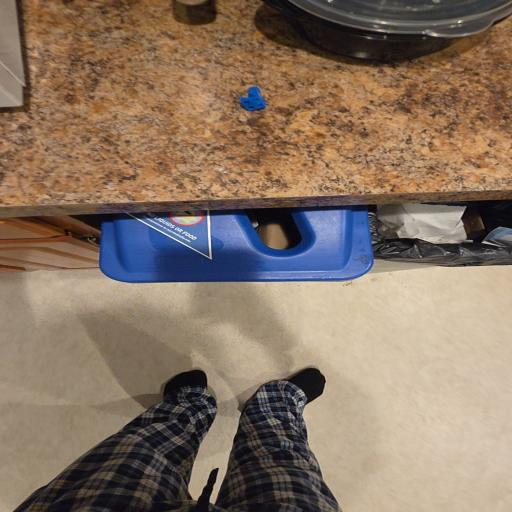Blue: (240, 86, 266, 111)
